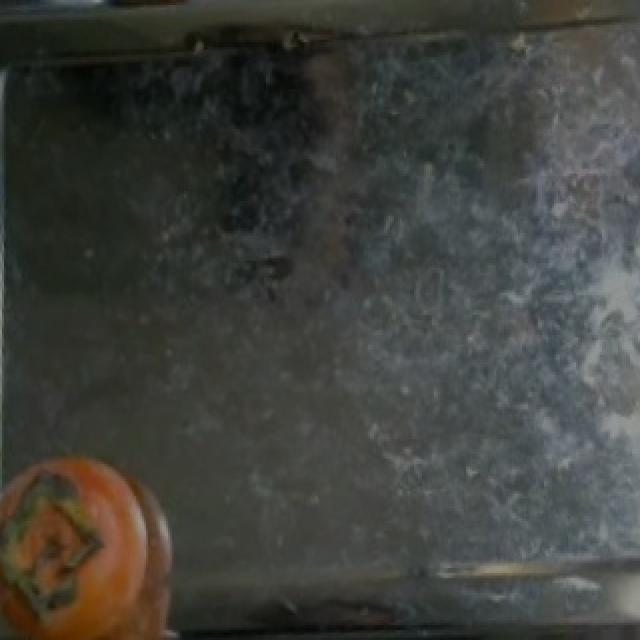Fruit: (0, 434, 190, 640), (460, 0, 640, 64)
